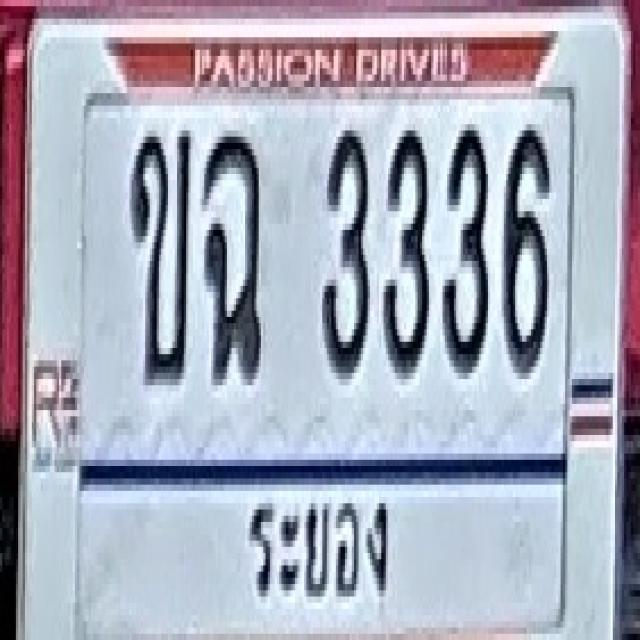3: (321, 124, 369, 373), (382, 124, 428, 373), (442, 124, 488, 373)
6: (503, 124, 548, 373)
A02: (129, 128, 191, 382)
A09: (203, 131, 262, 379)
RYG: (244, 486, 396, 612)
